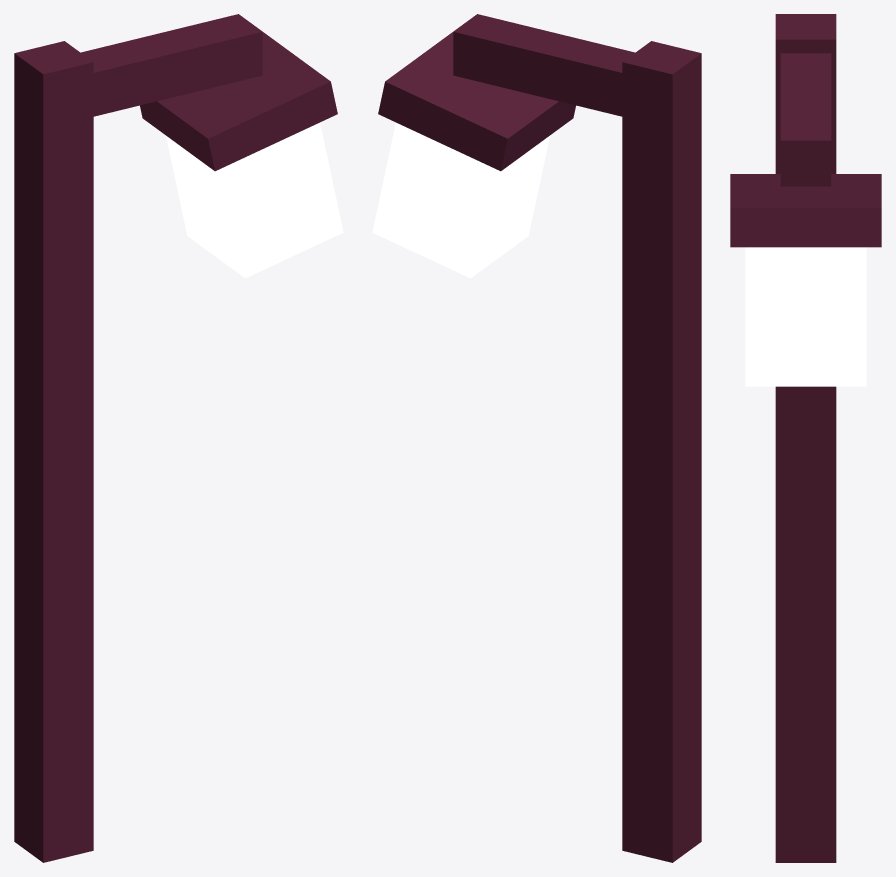
File: lamp.glb
3 renders of one model, left to right at view 1: azimuth 30°, elevation 25°; view 2: azimuth 150°, elevation 25°; view 3: azimuth 270°, elevation 25°, orthographic. The views are drawn at different scales.
Visible parts, largest first — view 1: Post, Lantern, Arm; view 2: Post, Lantern, Arm; view 3: Post, Lantern, Arm.
Boxes of the visible parts, box(x1,y1,x2,y2) form: Post: box(14, 41, 93, 862); Lantern: box(140, 32, 343, 278); Arm: box(81, 14, 262, 116); Post: box(622, 41, 701, 862); Lantern: box(372, 32, 575, 278); Arm: box(453, 14, 634, 116); Post: box(775, 14, 836, 862); Lantern: box(730, 174, 881, 386); Arm: box(780, 53, 831, 186).
Size of the model in its own units: 0.6826 by 1.8 by 0.3.
